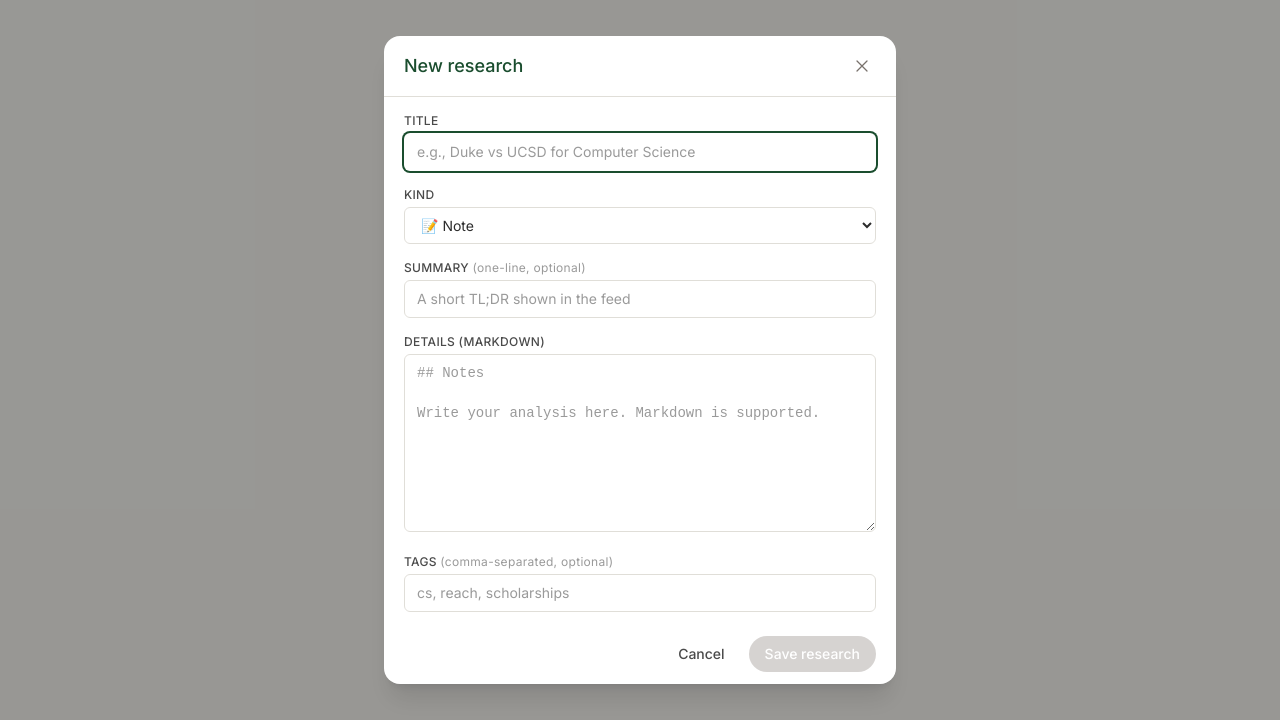
ResearchEditorModal › disables save until title and body are filled
The width and height of the screenshot is (1280, 720).
expect the button "Save research" is disabled: met, box [749,636,876,672]
Type "T" into the field labelled "Title" at [640, 152], box [404,133,876,171]
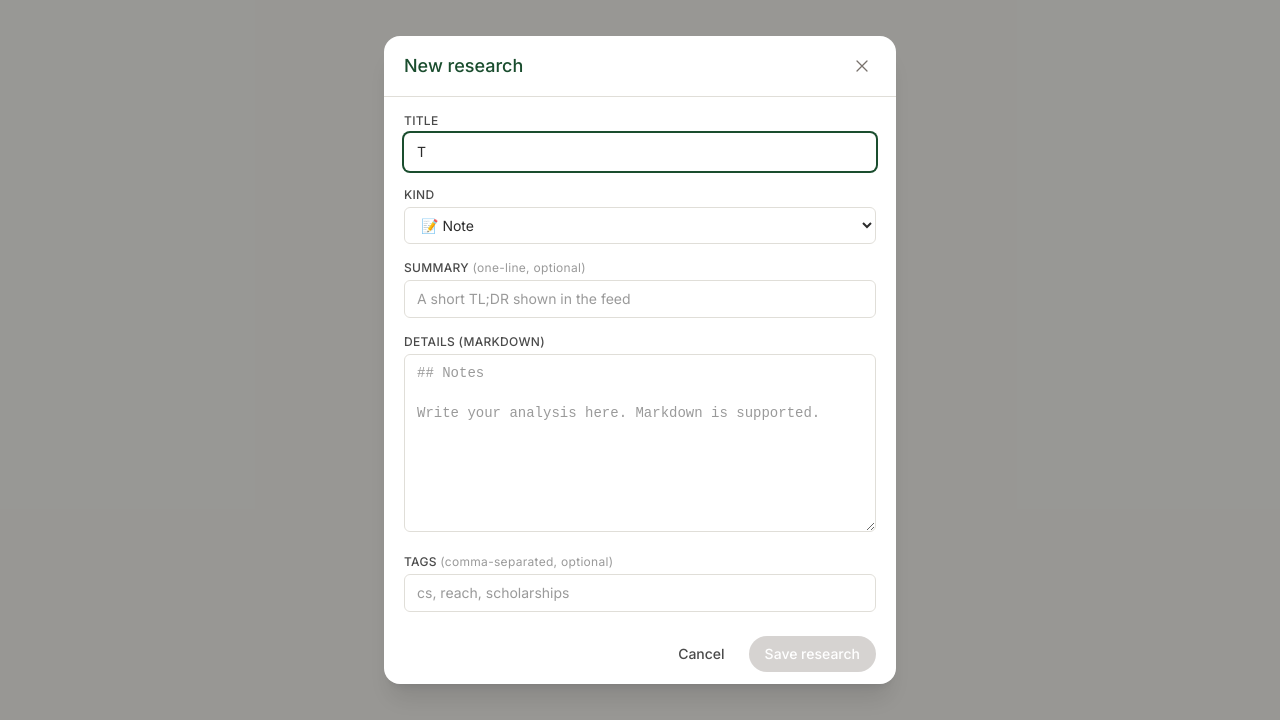
expect the button "Save research" is disabled: met, box [749,636,876,672]
Type "B" into the text box labelled "Details (Markdown)" at [640, 443], box [404,354,876,532]
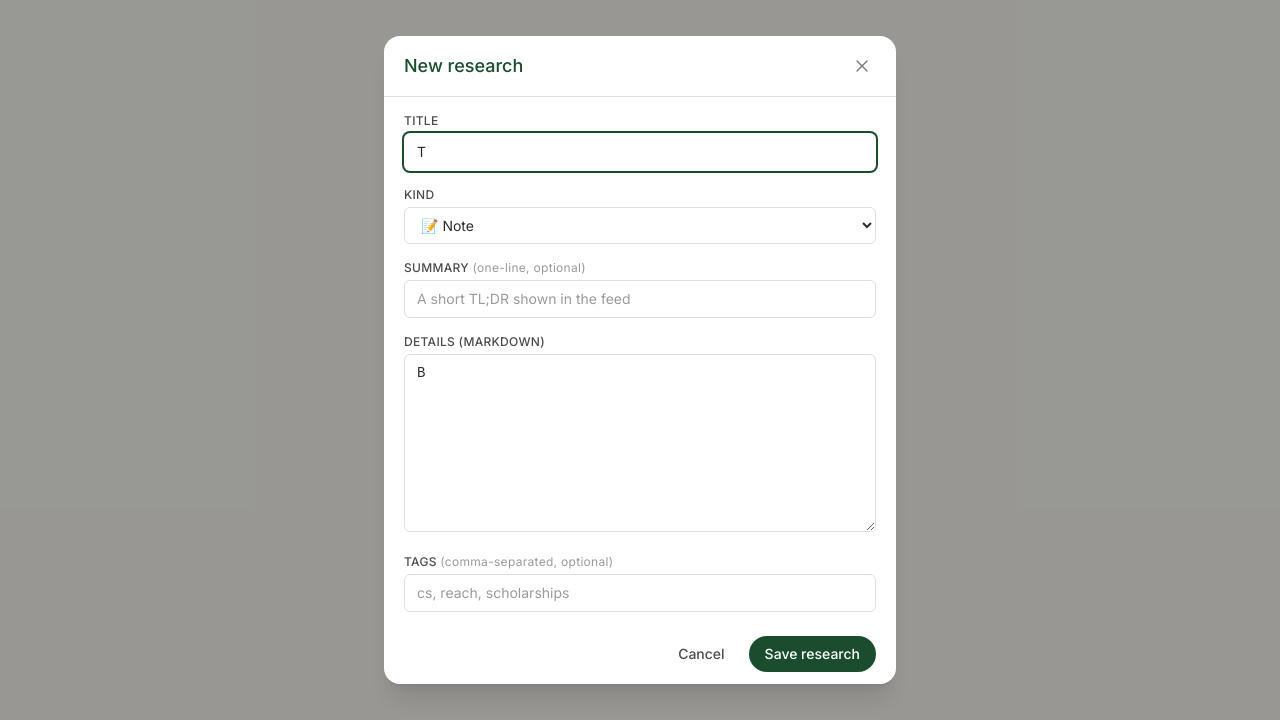
expect the button "Save research" is enabled: met, box [749,636,876,672]
